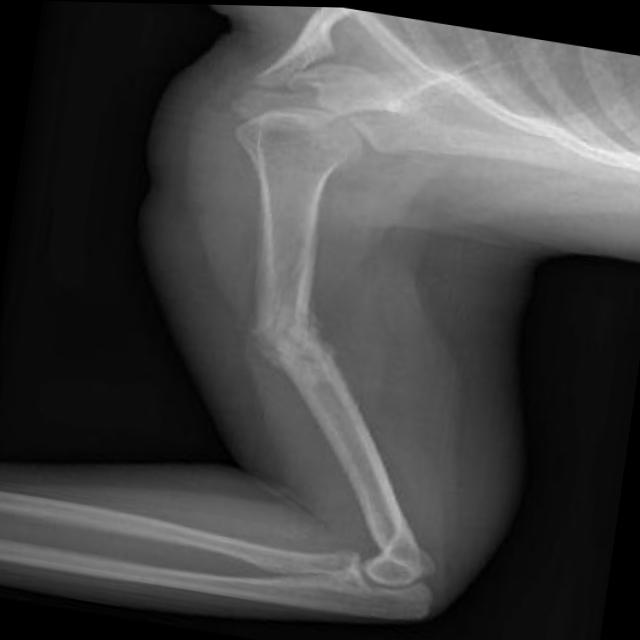fracture: (233, 302, 360, 380)
